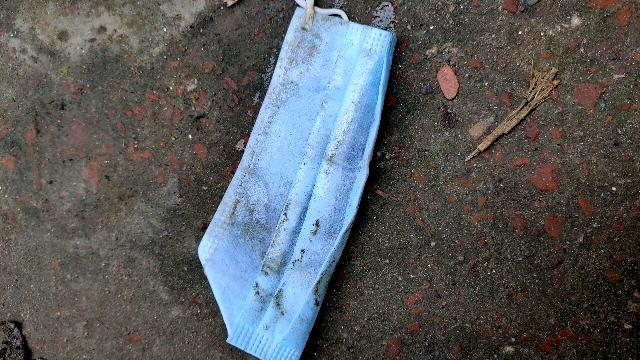mask: (190, 0, 411, 360)
